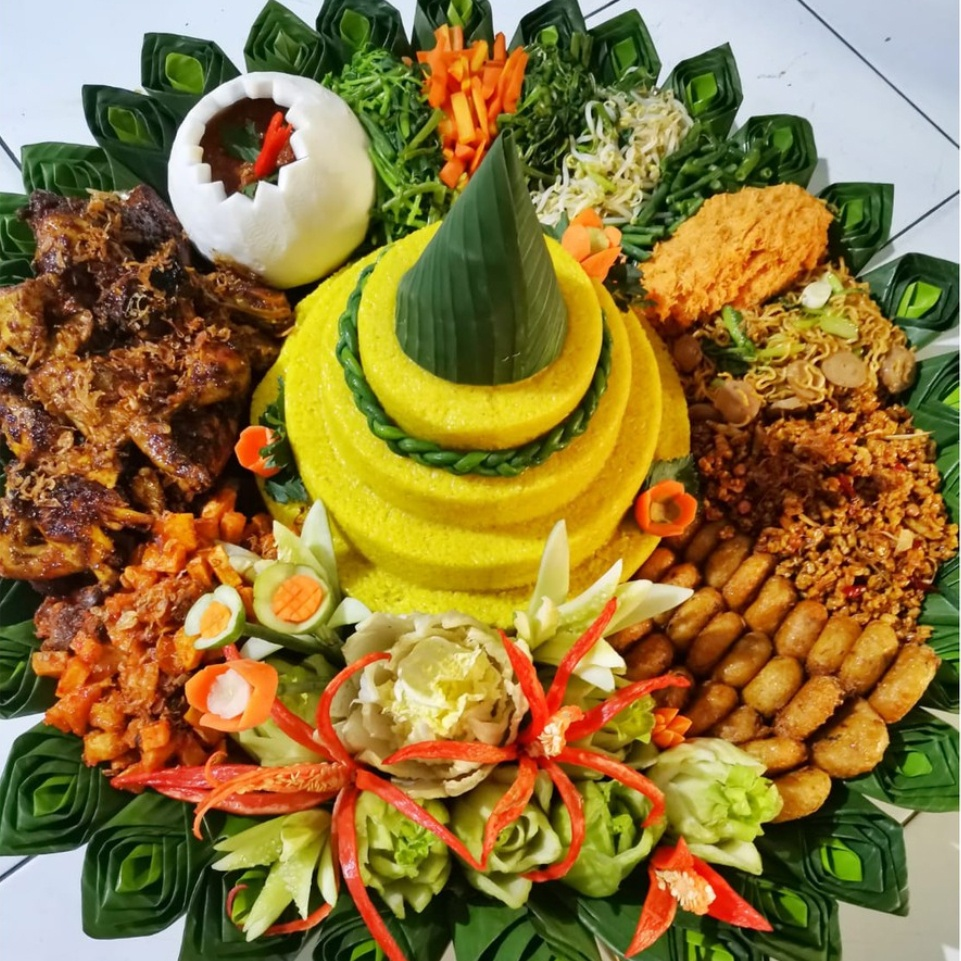tumpeng: (325, 97, 632, 442)
